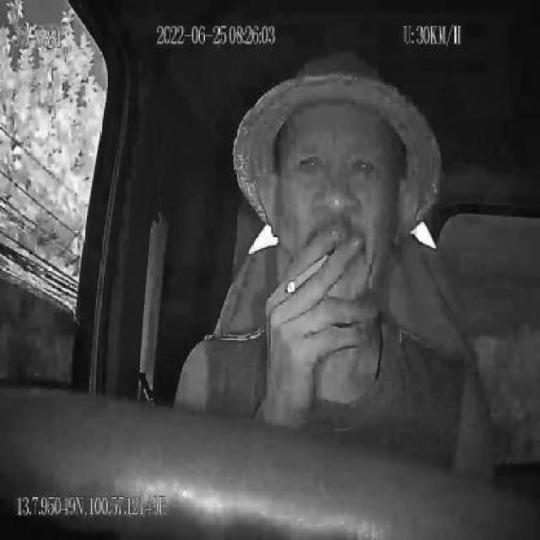smoking: (286, 254, 331, 298)
